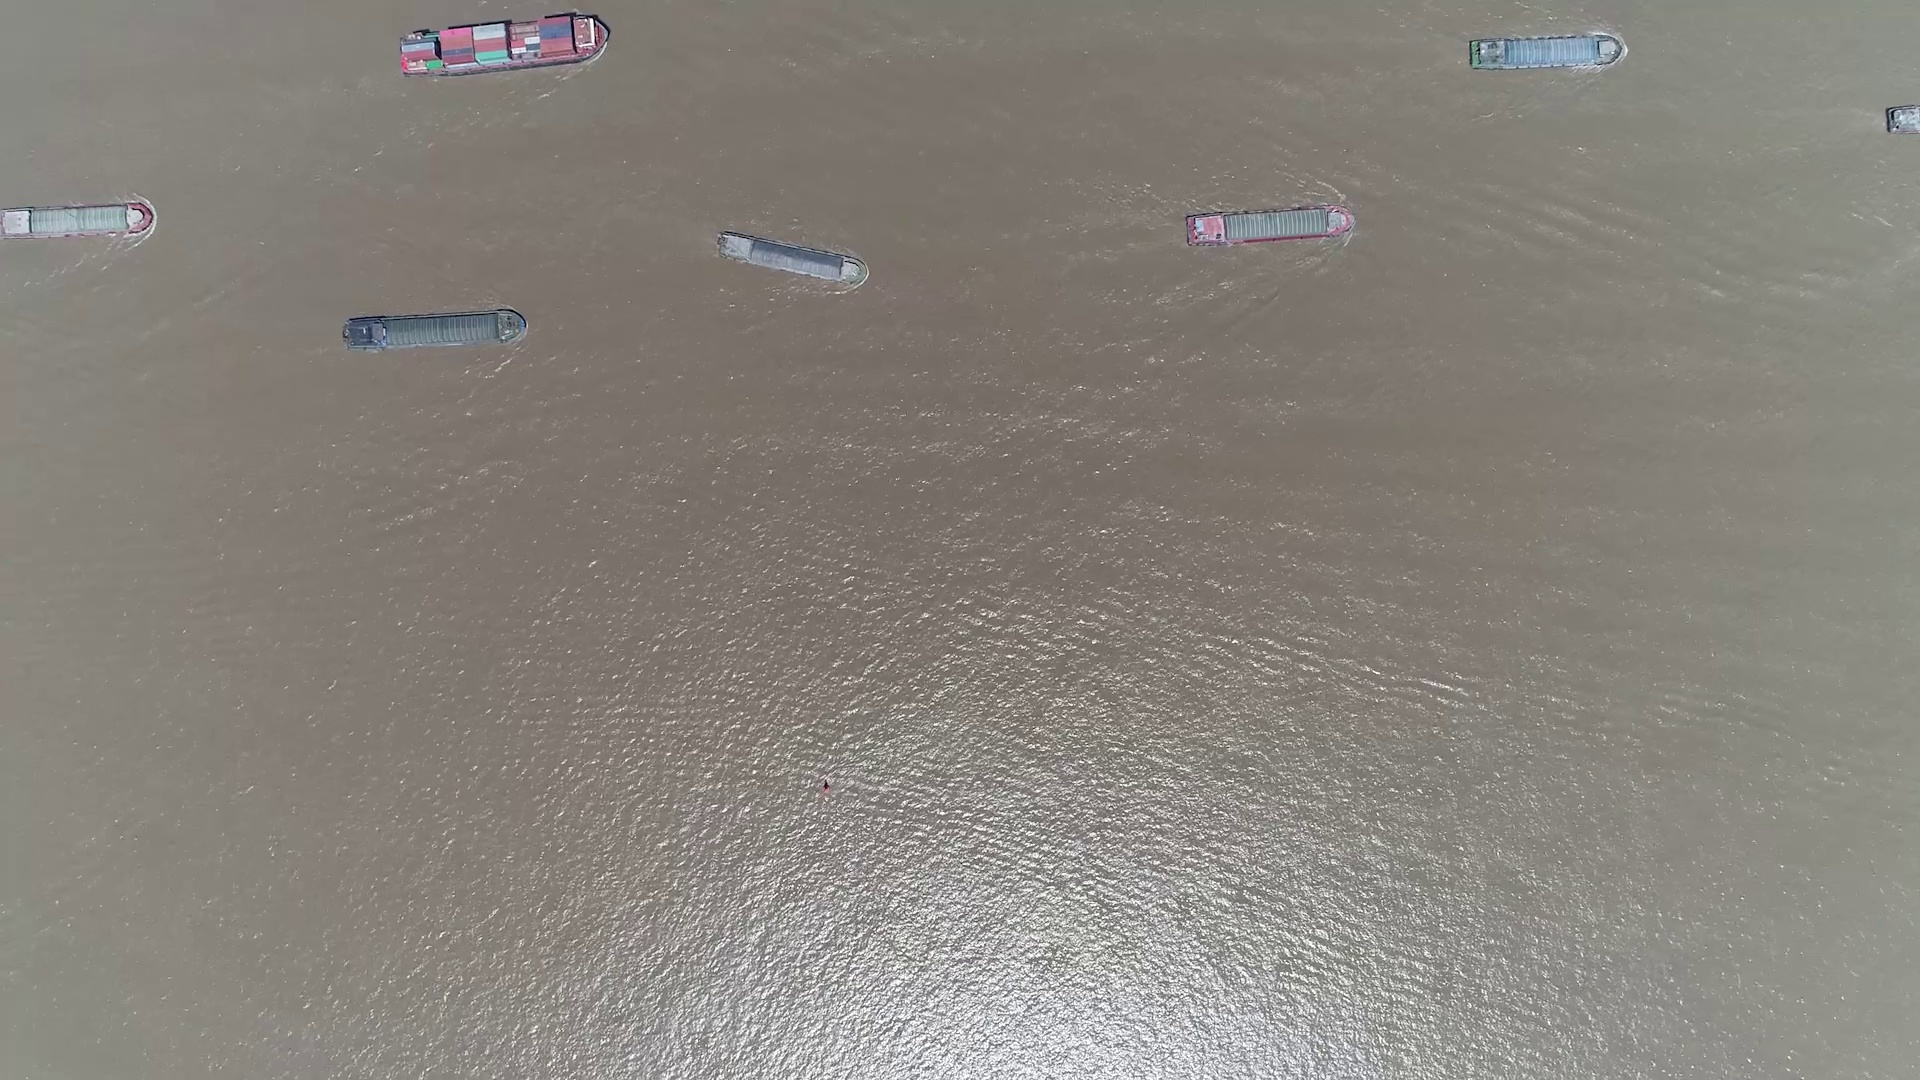ship: (396, 15, 607, 76), (715, 231, 865, 287), (342, 310, 524, 349), (1185, 206, 1356, 245), (1469, 36, 1622, 70), (1, 204, 153, 237)
